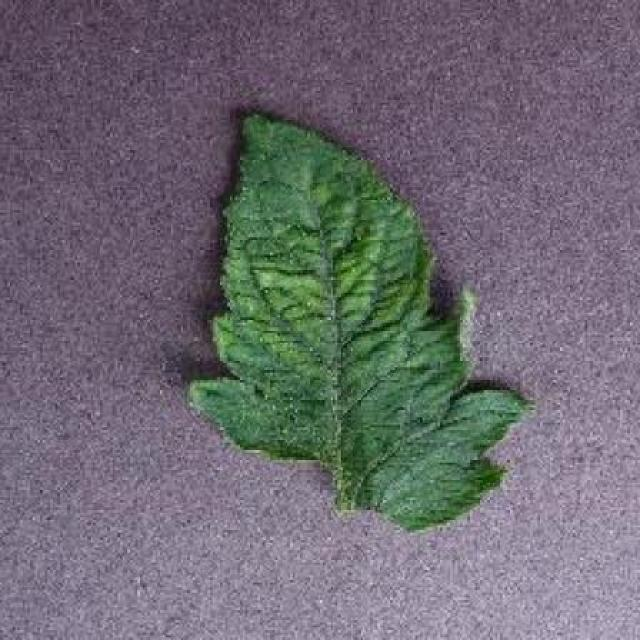Mosaic Virus: (189, 106, 540, 528)
